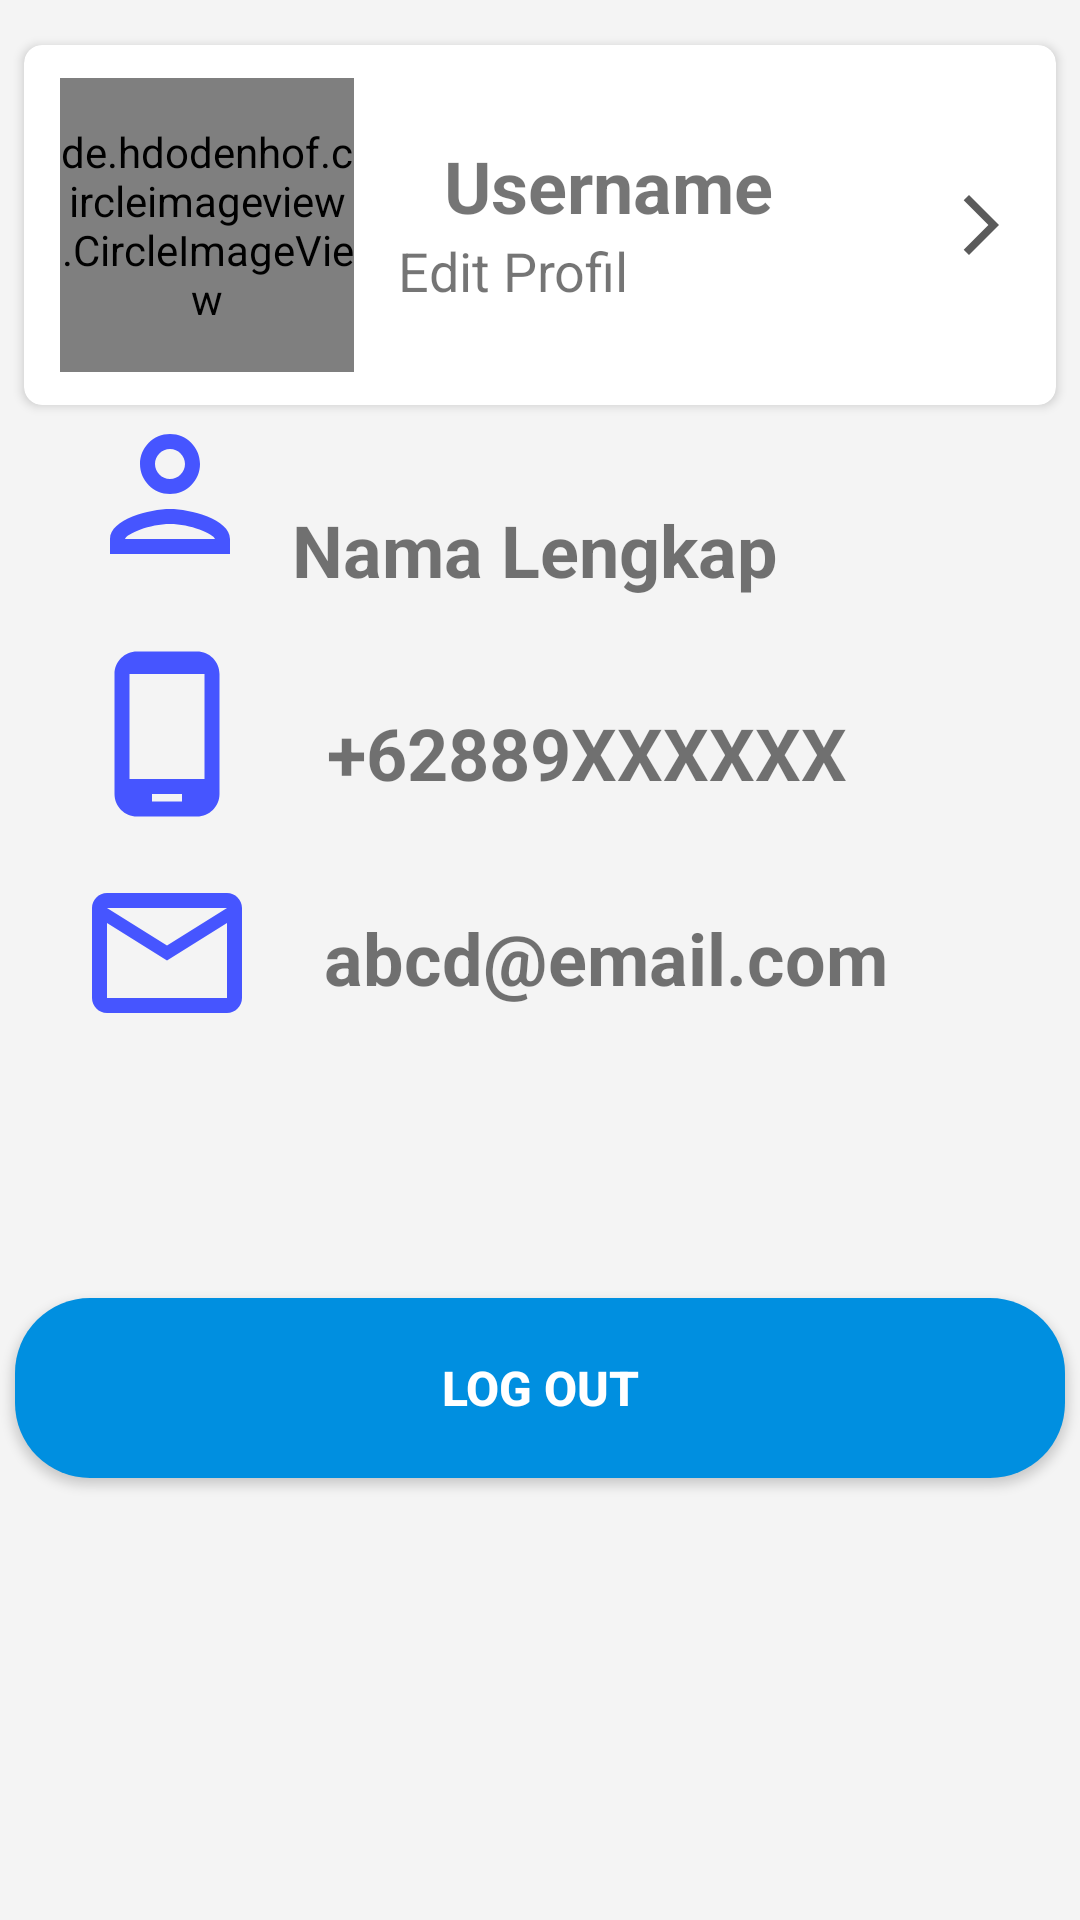

Icon bounding boxes for this 1080 × 1920 phone screenshot, format bbox=[x1, y1, x2, y2]:
arrow forward: bbox=[964, 195, 999, 255]
person: bbox=[110, 434, 230, 554]
phone android: bbox=[114, 651, 220, 817]
